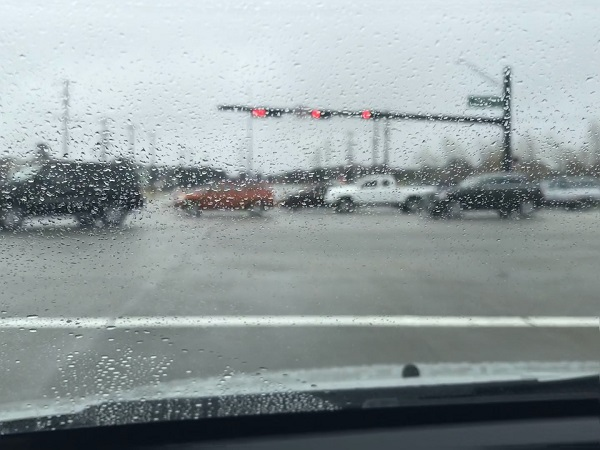car: (1, 161, 147, 232), (429, 173, 540, 219), (173, 178, 277, 218), (280, 184, 329, 210)
traffic light: (249, 106, 265, 120), (359, 109, 373, 120), (310, 109, 322, 120)
truck: (326, 173, 436, 214)
